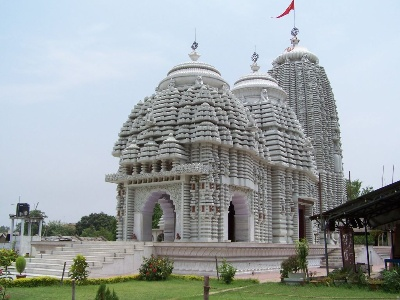amalaka: (274, 43, 332, 69)
gopuram: (262, 61, 355, 174)
